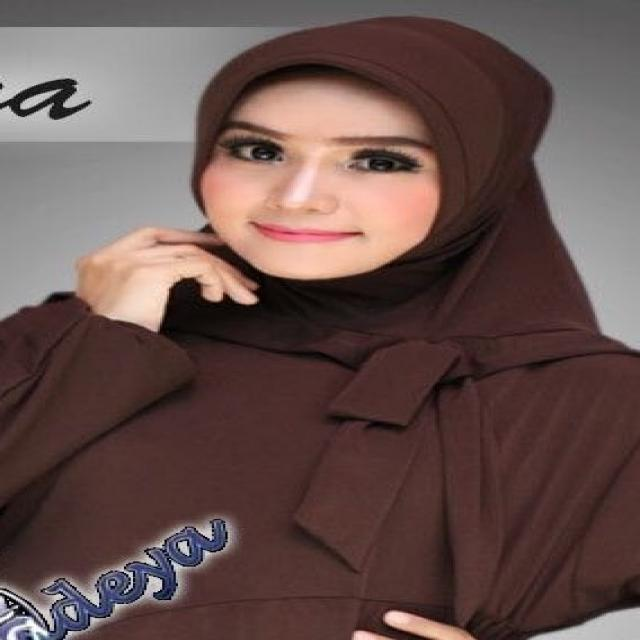head: (187, 10, 587, 292)
